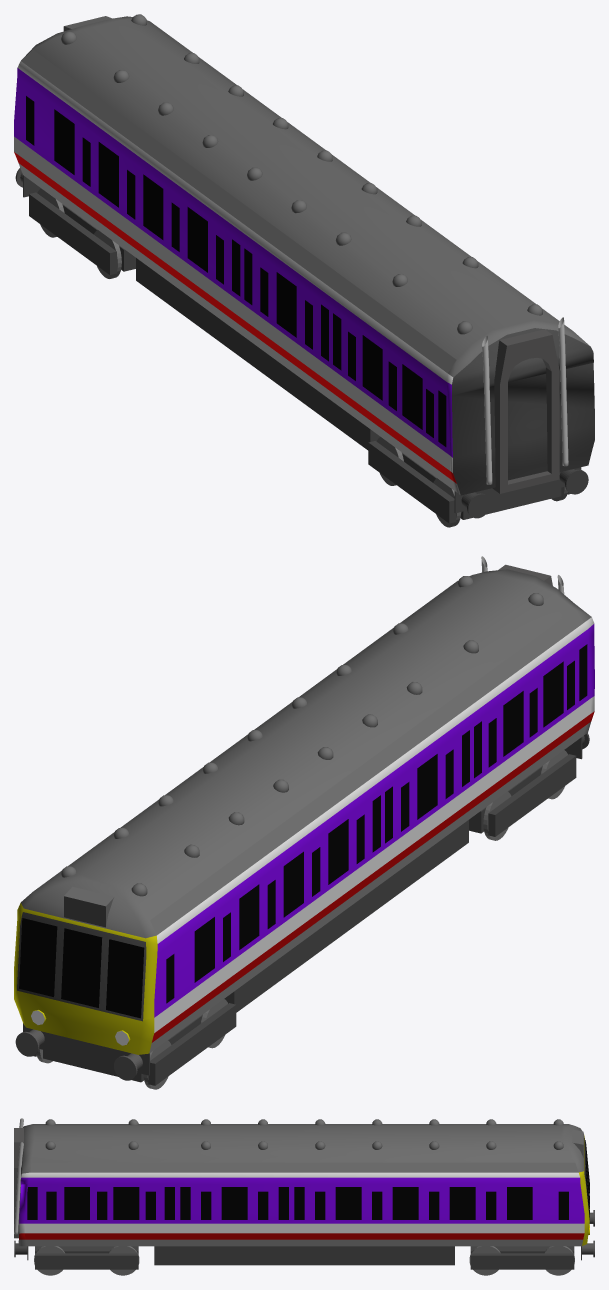
The model's file is br-117-dms-nse.dae.
3 renders of one model, top to bottom at view 1: azimuth 30°, elevation 25°; view 2: azimuth 150°, elevation 25°; view 3: azimuth 270°, elevation 25°, orthographic. The views are drawn at different scales.
Parts seen in each view (by area): view 1: Plane_002, Cube_012, Tube_002, Cube_004, Cube_001, Plane_001, Plane_041, Plane_042, Plane_037, Plane_038, Plane_048, Plane_053 (+4 smaller); view 2: Plane_002, Cube_012, Plane_003, Plane_004, Plane_005, Cube_001, Cube_004, Cube_009, Cube_007, Plane_042, Plane_037, Plane_038 (+5 smaller); view 3: Plane_002, Cube_012, Cube_005, Cube, Plane_013, Plane_018, Plane_019, Plane_025, Plane_023, Plane_027, Plane_030, Tube_002 (+23 smaller).
Part boxes in pixels (<box>): Plane_002: <box>14,16,594,495</box>; Cube_012: <box>136,258,380,450</box>; Tube_002: <box>492,329,559,493</box>; Cube_004: <box>29,192,116,274</box>; Cube_001: <box>368,441,456,523</box>; Plane_001: <box>402,364,422,429</box>; Plane_041: <box>143,174,163,239</box>; Plane_042: <box>187,207,207,272</box>; Plane_037: <box>54,109,74,174</box>; Plane_038: <box>98,142,118,207</box>; Plane_048: <box>276,272,296,337</box>; Plane_053: <box>362,335,382,400</box>; Plane_002: <box>14,569,594,1054</box>; Cube_012: <box>224,820,468,1012</box>; Plane_003: <box>61,928,102,1007</box>; Plane_004: <box>106,939,144,1018</box>; Plane_005: <box>19,918,57,996</box>; Cube_001: <box>488,754,576,836</box>; Cube_004: <box>148,1003,236,1085</box>; Cube_009: <box>23,1023,149,1075</box>; Cube_007: <box>64,886,114,927</box>; Plane_042: <box>328,819,348,884</box>; Plane_037: <box>194,917,214,982</box>; Plane_038: <box>239,884,259,949</box>; Plane_002: <box>18,1124,589,1246</box>; Cube_012: <box>154,1246,454,1265</box>; Cube_005: <box>470,1253,574,1269</box>; Cube: <box>35,1253,138,1269</box>; Plane_013: <box>221,1187,247,1219</box>; Plane_018: <box>335,1187,361,1219</box>; Plane_019: <box>392,1187,418,1219</box>; Plane_025: <box>449,1187,475,1219</box>; Plane_023: <box>113,1187,139,1219</box>; Plane_027: <box>507,1187,532,1219</box>; Plane_030: <box>64,1187,89,1219</box>; Tube_002: <box>14,1128,23,1238</box>.
Bounding box in the file's own units: 2.02 × 11.21 × 2.74.
